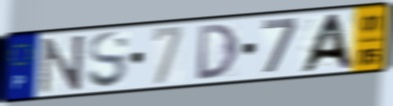7: (259, 16, 301, 77), (150, 25, 189, 86)
A: (296, 12, 357, 75)
D: (196, 22, 241, 82)
N: (38, 33, 87, 96)
S: (85, 30, 131, 91)
